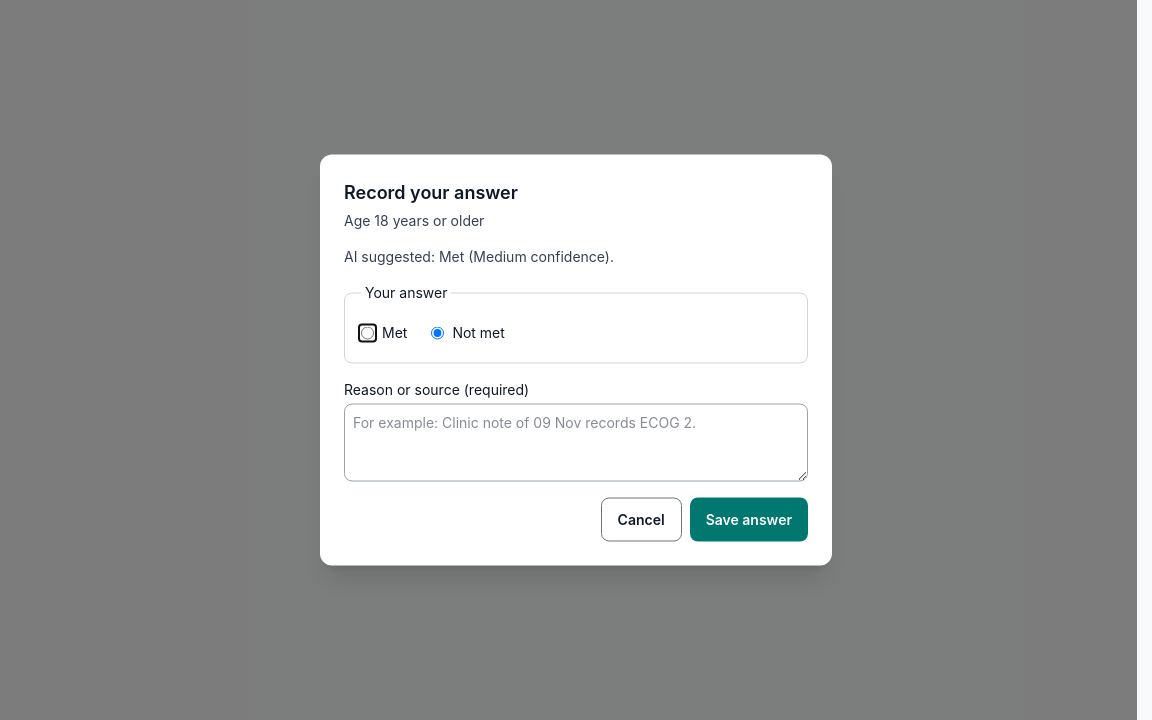
OverrideDialog › requires a reason before saving
Click the button "Save answer": (749, 520) [690,498,808,542]
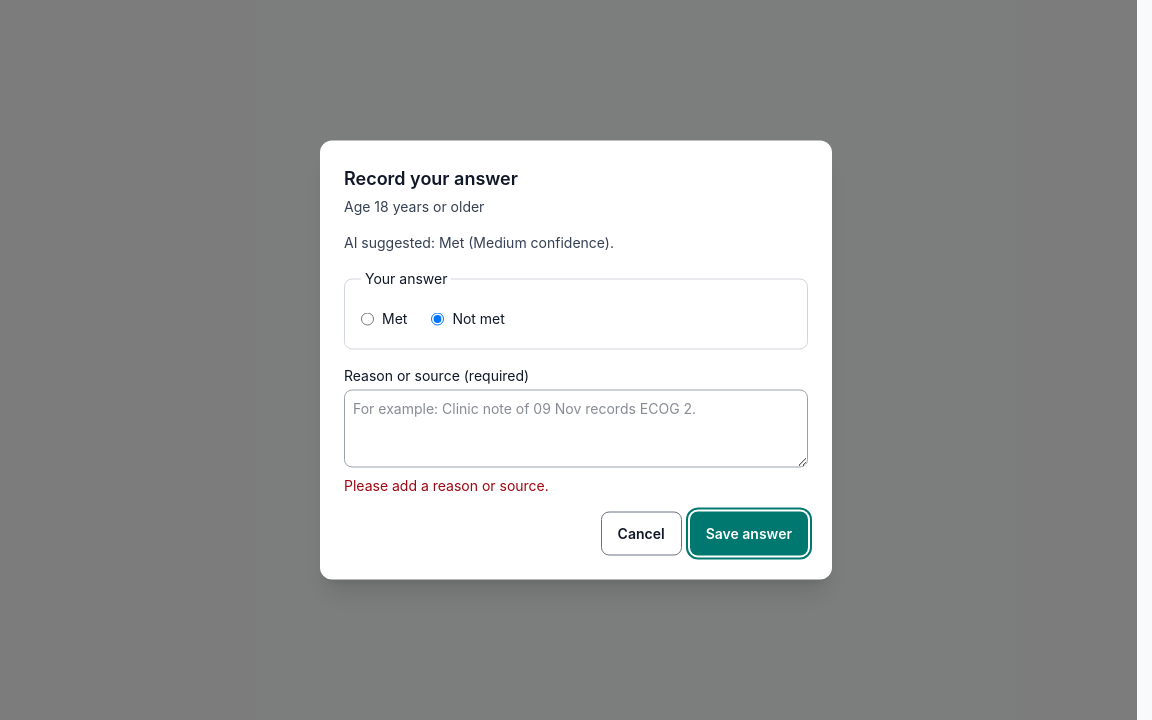
Expected: the message reads "Please add a reason or source.", [344,476,549,494]
